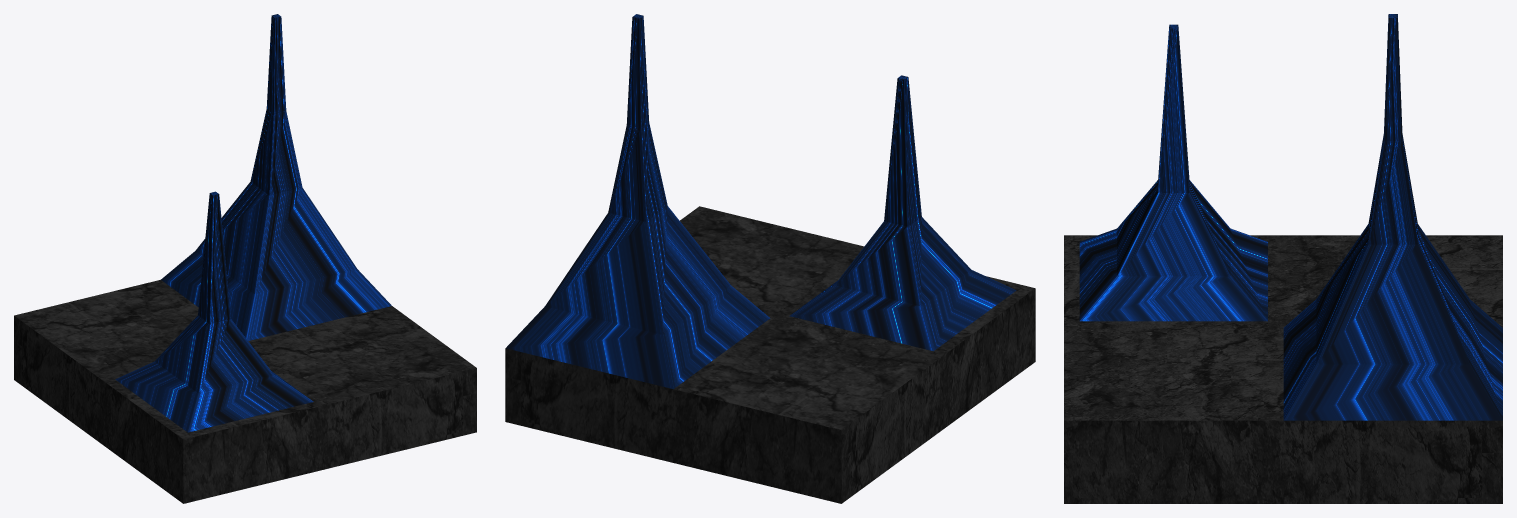
Rendered from EmptySpace7.fbx.
3 views of the same model, side by side, from view 1: azimuth 30°, elevation 25°; view 2: azimuth 150°, elevation 25°; view 3: azimuth 270°, elevation 25° (orthographic). The views are drawn at different scales.
Parts seen in each view (by area): view 1: blankspace4; view 2: blankspace4; view 3: blankspace4.
Part boxes in pixels (<box>): blankspace4: <box>14,14,476,503</box>; blankspace4: <box>505,14,1035,503</box>; blankspace4: <box>1064,14,1502,503</box>.
Bounding box in the file's own units: 100 × 111 × 100.
2 materials, 2 textured.
